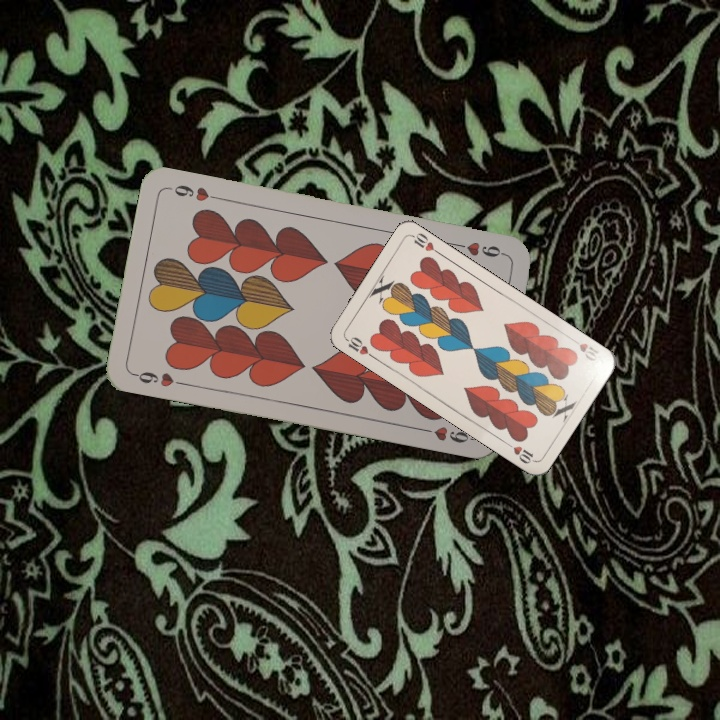H10: (341, 333, 378, 361), (567, 334, 601, 364)
H9: (129, 367, 188, 390), (449, 237, 508, 260)
